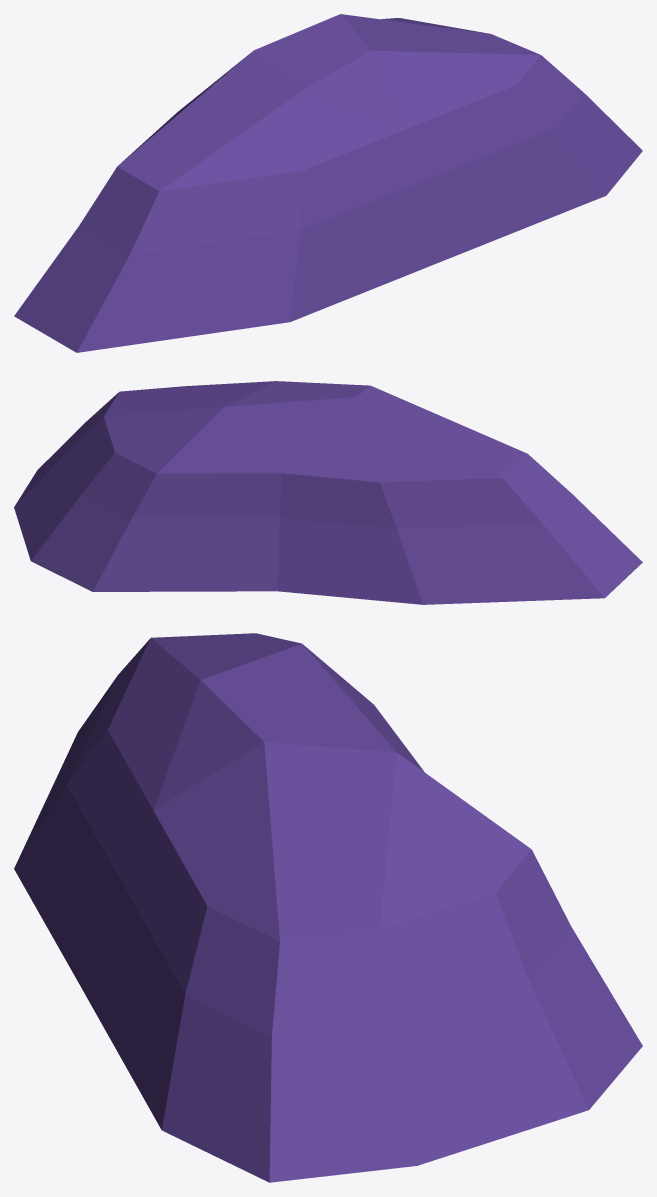
File: rock2.fbx
3 renders of one model, top to bottom at view 1: azimuth 30°, elevation 25°; view 2: azimuth 150°, elevation 25°; view 3: azimuth 270°, elevation 25°, orthographic. The views are drawn at different scales.
Visible parts, largest first — view 1: Vert; view 2: Vert; view 3: Vert.
Boxes of the visible parts, x1,y1,x2,y2 form: Vert: (14,14,642,352); Vert: (14,381,642,604); Vert: (14,633,642,1182).
Size of the model in its own units: 34.47 by 9.48 by 20.03.
